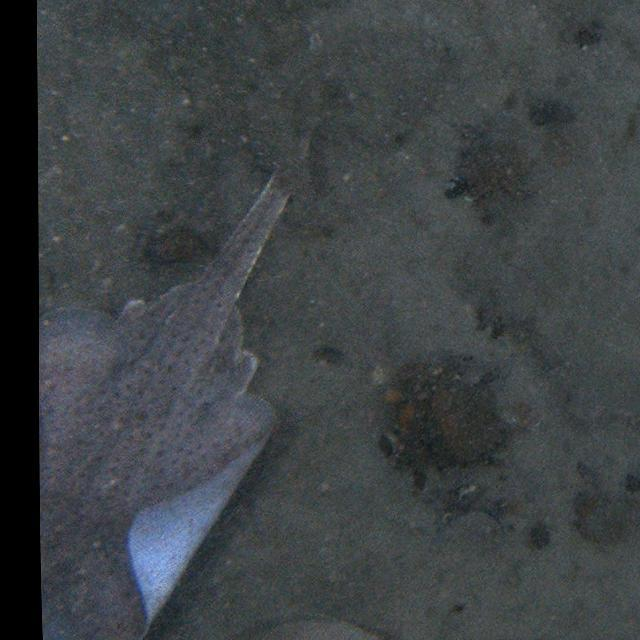skate: (39, 156, 309, 635)
